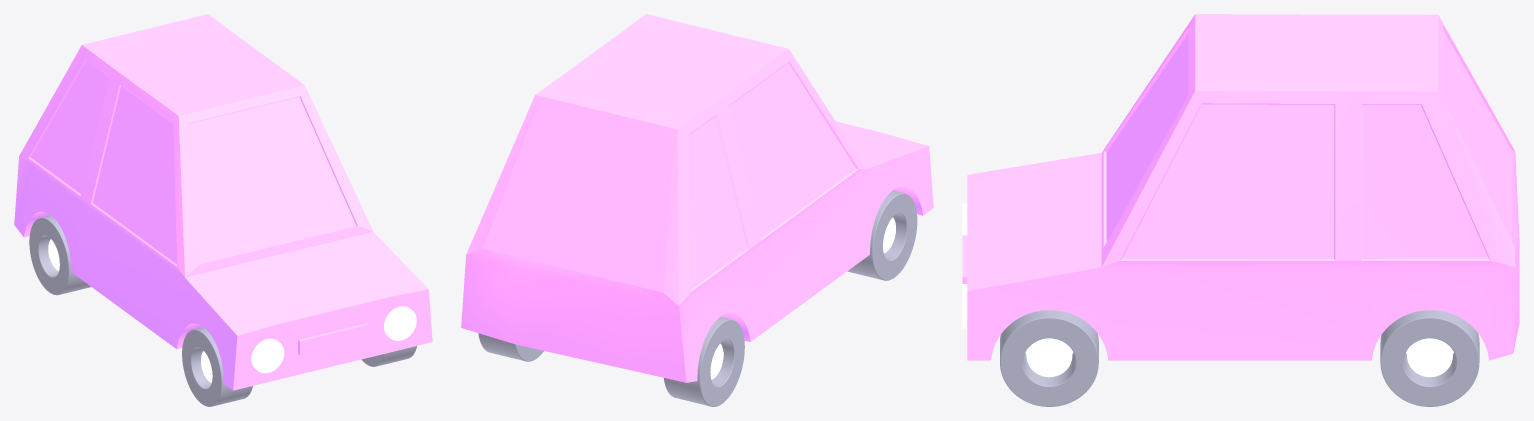
Rendered from car.gltf.
3 views of the same model, side by side, from view 1: azimuth 30°, elevation 25°; view 2: azimuth 150°, elevation 25°; view 3: azimuth 270°, elevation 25° (orthographic). The views are drawn at different scales.
Parts seen in each view (by area): view 1: Car Frame, Wheel-Black, Head Light, Wheel-White; view 2: Car Frame, Wheel-Black, Wheel-White; view 3: Car Frame, Wheel-Black, Wheel-White.
Boxes of the visible parts, left/top/right/bottom form: Car Frame: left=14, top=14, right=432, bottom=390; Wheel-Black: left=29, top=215, right=416, bottom=406; Head Light: left=251, top=306, right=416, bottom=373; Wheel-White: left=48, top=239, right=212, bottom=382; Car Frame: left=461, top=14, right=933, bottom=382; Wheel-Black: left=478, top=190, right=917, bottom=406; Wheel-White: left=710, top=217, right=895, bottom=379; Car Frame: left=962, top=14, right=1519, bottom=360; Wheel-Black: left=1000, top=310, right=1479, bottom=406; Wheel-White: left=1026, top=338, right=1452, bottom=377.
Bounding box in the file's own units: 0.2829 × 0.3208 × 0.549.
